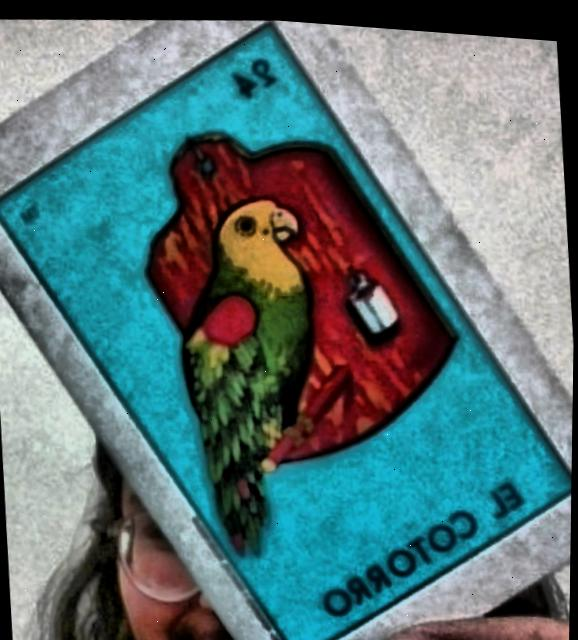El Cotorro: (0, 16, 573, 640)
